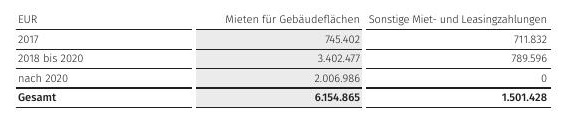table: (0, 0, 572, 120)
